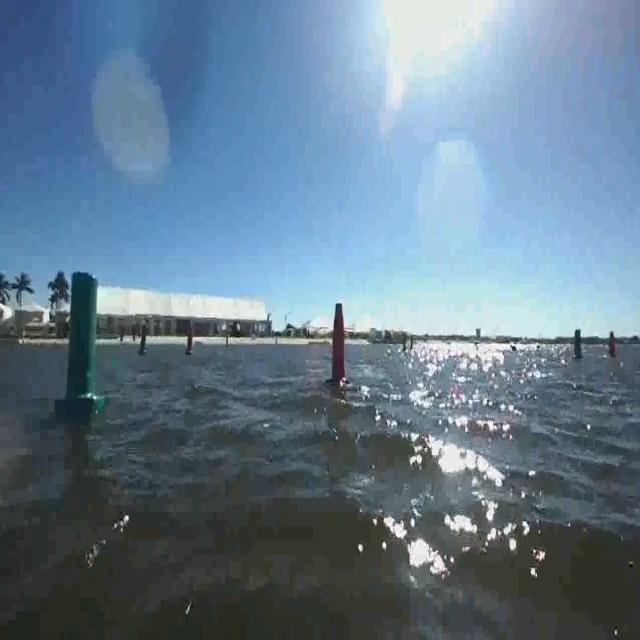green-column-buoy: (57, 272, 105, 417), (571, 329, 583, 362), (139, 325, 150, 356)
red-column-buoy: (330, 300, 350, 388), (184, 329, 194, 357), (610, 332, 619, 358)
